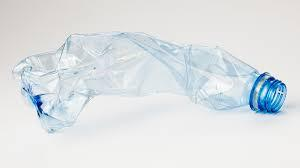plastic: (14, 31, 283, 132)
